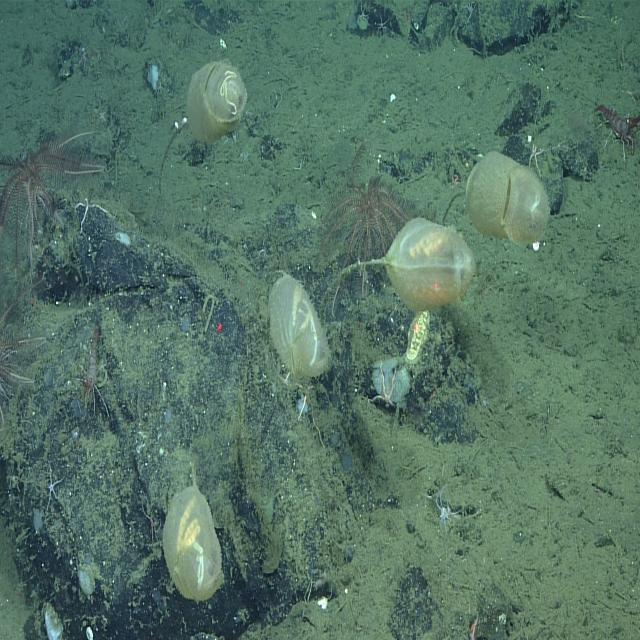Brittle Star: (36, 456, 68, 518), (371, 357, 407, 412), (373, 10, 391, 39)
Not Brittle Star: (0, 116, 105, 278), (320, 213, 477, 316), (154, 54, 250, 199), (441, 144, 549, 250), (162, 457, 225, 603), (262, 263, 334, 384), (1, 272, 50, 446), (72, 319, 114, 426), (590, 84, 640, 165)
